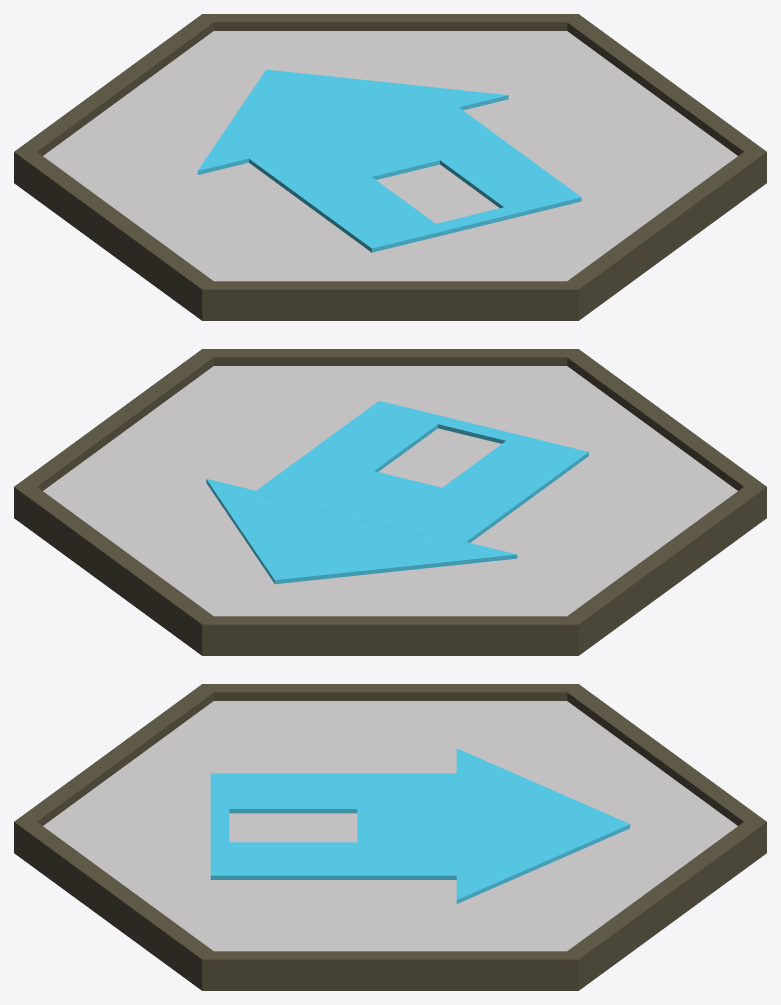
Rendered from HomeDice.fbx.
3 renders of one model, top to bottom at view 1: azimuth 30°, elevation 25°; view 2: azimuth 150°, elevation 25°; view 3: azimuth 270°, elevation 25°, orthographic.
Visible parts, largest first — view 1: Home; view 2: Home; view 3: Home.
Part boxes in pixels (<box>): Home: <box>14,14,766,320</box>; Home: <box>14,349,766,655</box>; Home: <box>14,684,766,990</box>.
Size of the model in its own units: 314 by 16.69 by 363.
